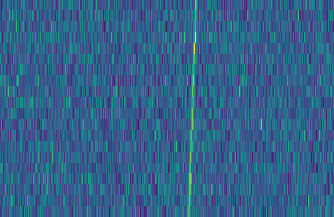signal: (184, 0, 200, 217)
